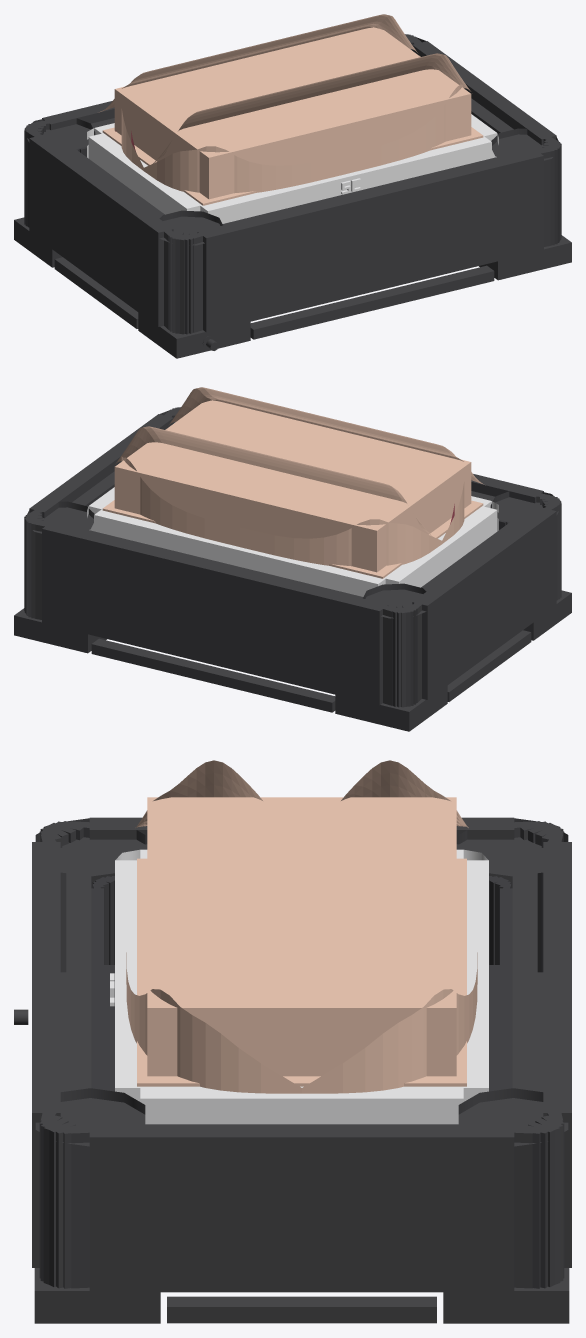
Rendered from aldaver-spine-simulator.glb.
3 views of the same model, one above another, from view 1: azimuth 30°, elevation 25°; view 2: azimuth 150°, elevation 25°; view 3: azimuth 270°, elevation 25° (orthographic). The views are drawn at different scales.
Parts seen in each view (by area): view 1: OuterBase, SkinCover, WhitePlate; view 2: OuterBase, SkinCover, WhitePlate; view 3: OuterBase, SkinCover, WhitePlate, InnerTray.
Part boxes in pixels (left/top/right/bottom): OuterBase: left=14, top=34, right=571, bottom=358; SkinCover: left=98, top=14, right=483, bottom=205; WhitePlate: left=87, top=114, right=498, bottom=223; OuterBase: left=14, top=407, right=571, bottom=731; SkinCover: left=102, top=387, right=483, bottom=578; WhitePlate: left=87, top=487, right=498, bottom=596; OuterBase: left=14, top=817, right=571, bottom=1323; SkinCover: left=126, top=760, right=477, bottom=1093; WhitePlate: left=110, top=849, right=488, bottom=1124; InnerTray: left=91, top=876, right=512, bottom=1091.
Bounding box in the file's own units: 0.42 × 0.189 × 0.31.
